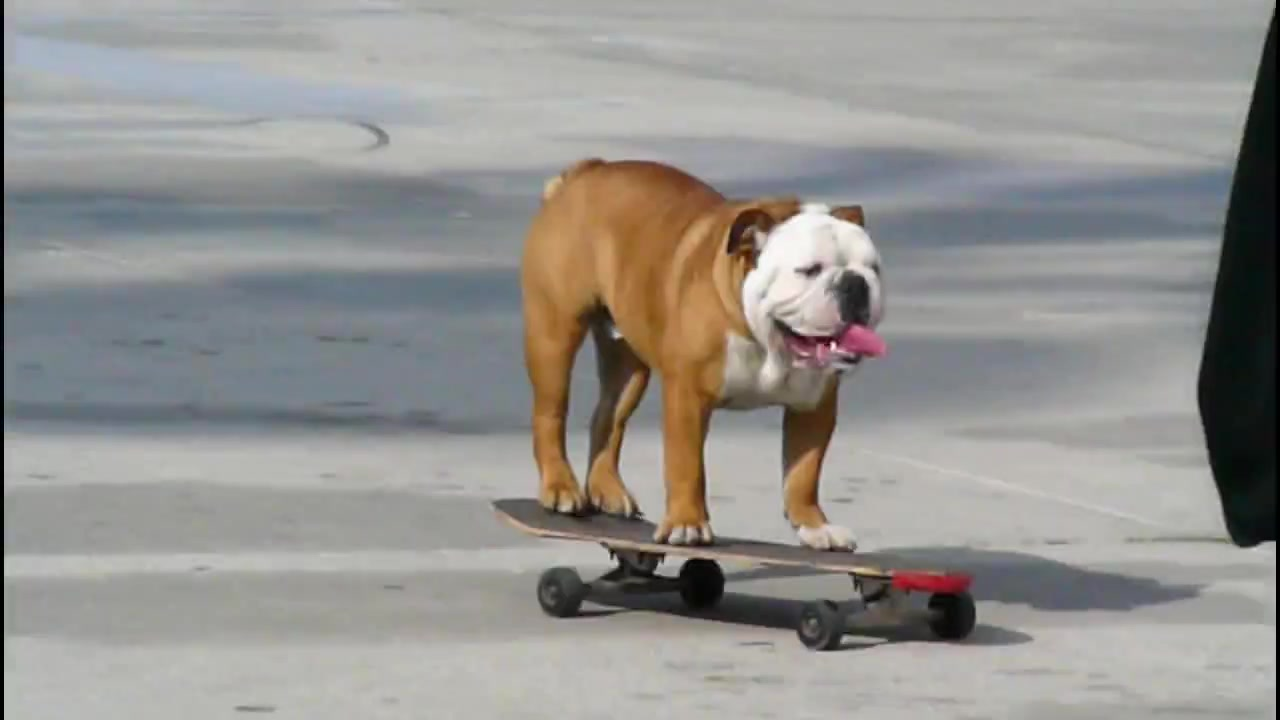dog: (526, 155, 891, 557)
